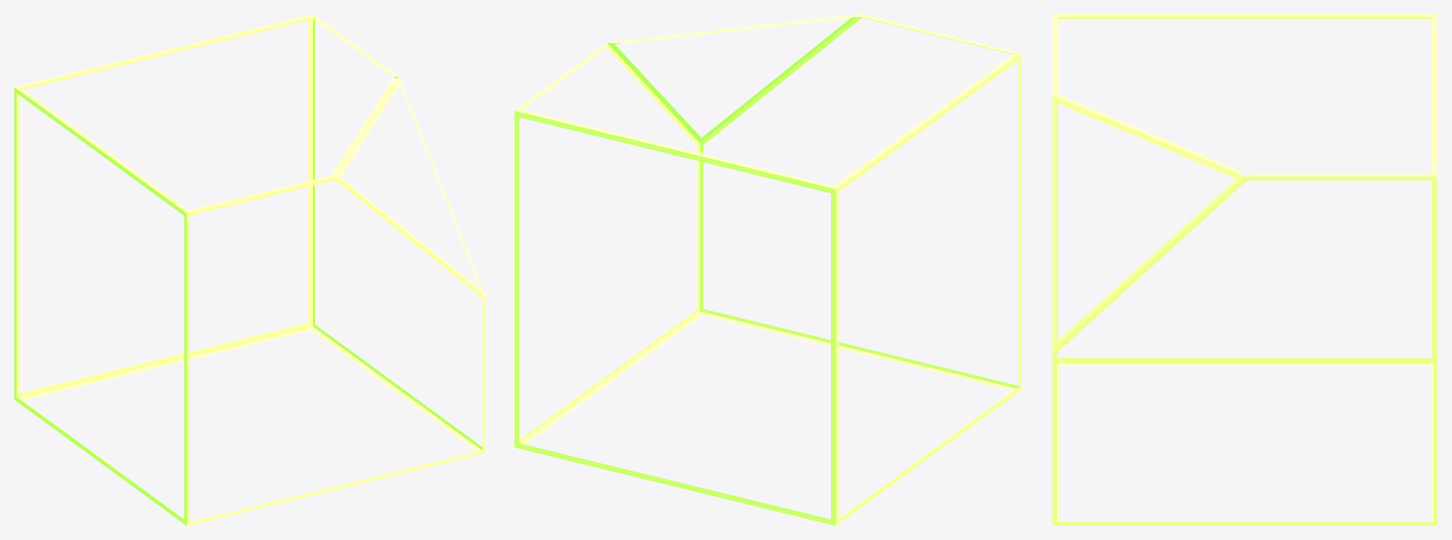
Rendered from r6c6_highlight_green.glb.
3 views of the same model, side by side, from view 1: azimuth 30°, elevation 25°; view 2: azimuth 150°, elevation 25°; view 3: azimuth 270°, elevation 25° (orthographic). The views are drawn at different scales.
Visible parts, largest first — view 1: r6c6_highlight_green; view 2: r6c6_highlight_green; view 3: r6c6_highlight_green.
Part boxes in pixels (box(x1,y1,x2,y2)): r6c6_highlight_green: box(14, 14, 485, 525); r6c6_highlight_green: box(514, 14, 1021, 525); r6c6_highlight_green: box(1050, 14, 1437, 525).
Bounding box in the file's own units: 2.01 × 2 × 2.01.
